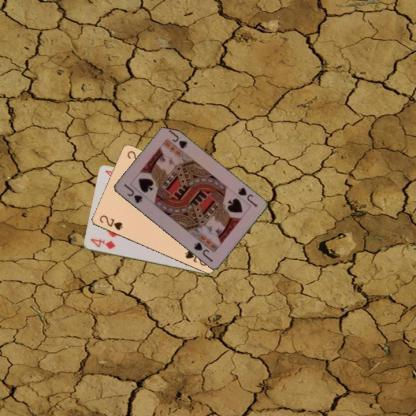2s: (96, 212, 124, 232)
4d: (88, 236, 116, 250)
Js: (120, 181, 144, 206), (235, 185, 258, 208)
